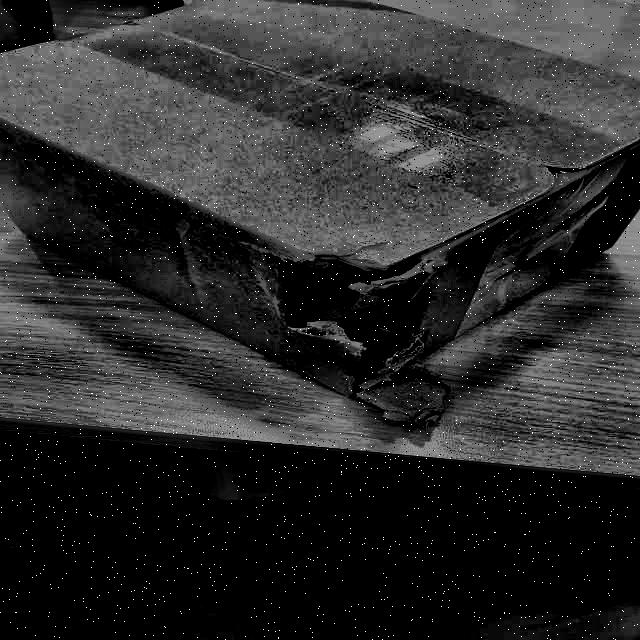box: (0, 0, 639, 413)
hole: (309, 257, 437, 365)
